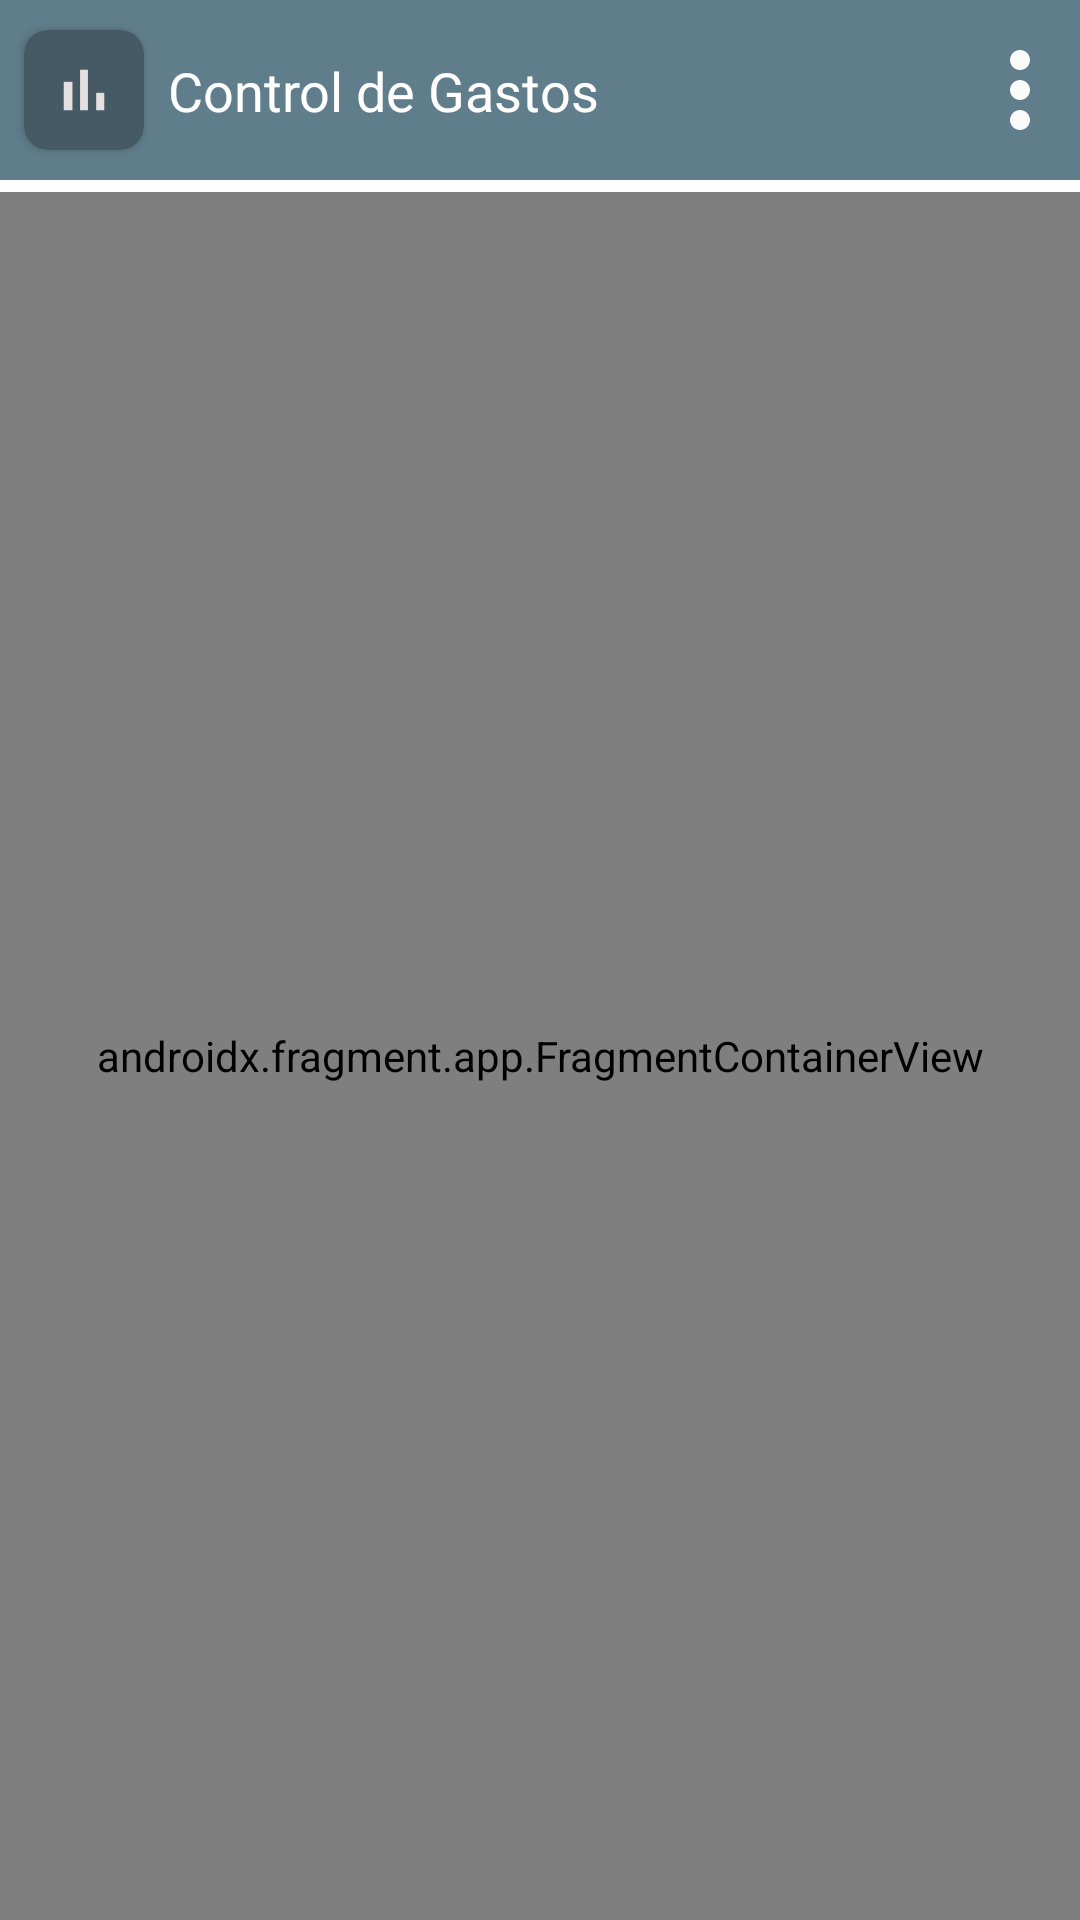

Icons on this 1080*1920 Android screen, each with the point to tap as [x,y]:
more vert: [1020,90]
